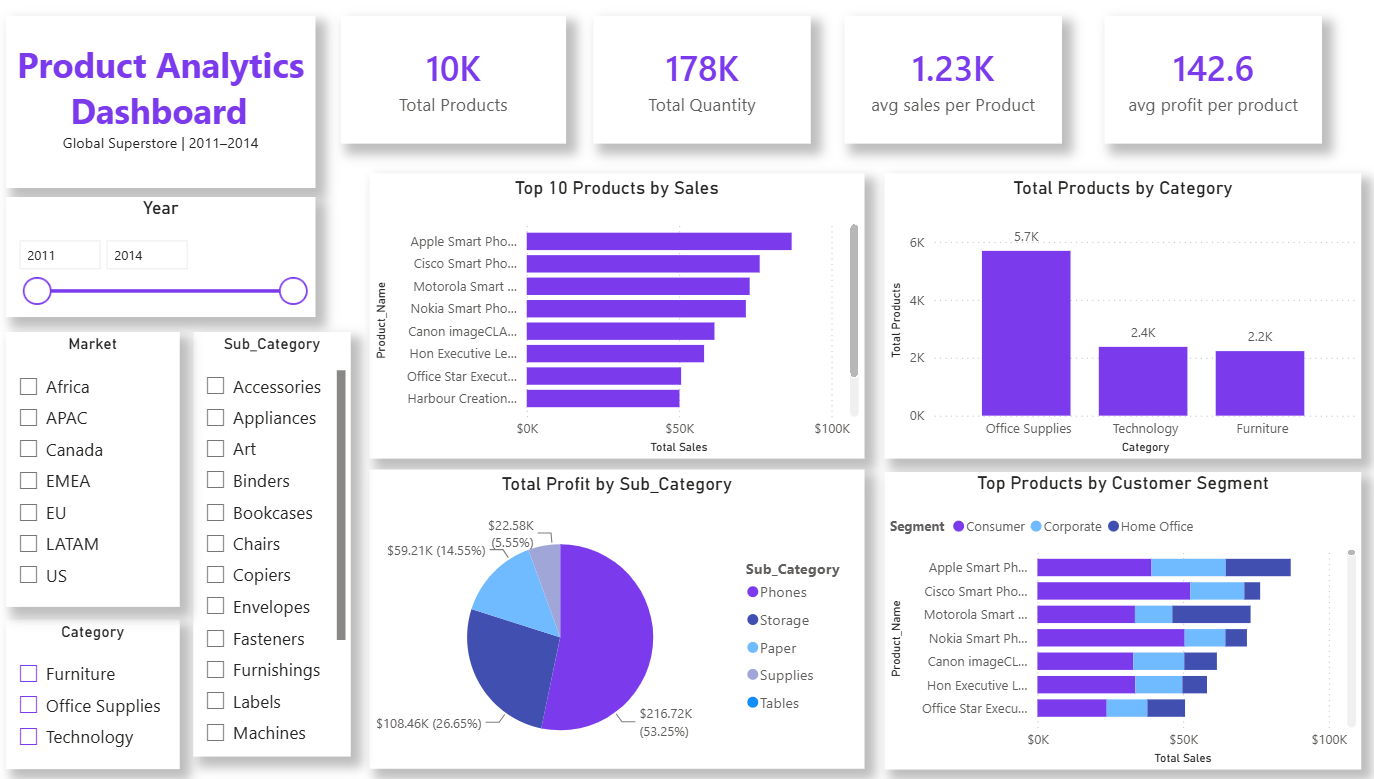

What the dashboard file says about the page in this screenshot:
{"tool":"powerbi","page":{"name":"Page 4","canvas":[1280,720],"ordinal":3},"visuals":[{"type":"cardVisual","fields":{"Data":["Measures (2).Total Products"]},"box":[321.2,17.5,207.5,117.5],"z":0},{"type":"cardVisual","fields":{"Data":["Measures (2).Total Quantity"]},"box":[552.5,17.5,200,117.5],"z":1000},{"type":"cardVisual","fields":{"Data":["Measures (2).avg sales per Product"]},"box":[783.8,17.5,200,117.5],"z":2000},{"type":"cardVisual","fields":{"Data":["Measures (2).avg profit per product"]},"box":[1022.5,17.5,200,117.5],"z":3000},{"type":"textbox","box":[12.5,17.5,285,158.8],"z":4000},{"type":"barChart","title":"Top 10 Products by Sales","fields":{"Y":["Measures (2).Total Sales"],"Category":["superstore1.Product_Name"]},"box":[347.5,162.5,455,262.5],"z":5000},{"type":"columnChart","fields":{"Category":["superstore1.Category"],"Y":["Measures (2).Total Products"]},"box":[821.2,162.5,438.8,262.5],"z":6000},{"type":"barChart","title":"Top Products by Customer Segment","fields":{"Series":["superstore1.Segment"],"Y":["Measures (2).Total Sales"],"Category":["superstore1.Product_Name"]},"box":[821.2,436.2,438.8,273.8],"z":7000},{"type":"pieChart","fields":{"Category":["superstore1.Sub_Category"],"Y":["Measures (2).Total Profit"]},"box":[347.5,435,455,275],"z":8000},{"type":"slicer","title":"Year","fields":{"Values":["Calendar.Year"]},"box":[12.5,183.8,285,110],"z":9000},{"type":"slicer","title":"Category","fields":{"Values":["superstore1.Category"]},"box":[12.5,572.5,160,137.5],"z":10000},{"type":"slicer","title":"Sub_Category","fields":{"Values":["superstore1.Sub_Category"]},"box":[185,307.5,145,390],"z":11000},{"type":"slicer","title":"Market","fields":{"Values":["superstore1.Market"]},"box":[12.5,307.5,160,252.5],"z":12000}]}

Visuals, with their boxes in screenshot pixels (x1, y1, x2, y2), scaled from the page's 1280x720 canvas onto the 1374x779 screenshot:
cardVisual - Measures (2).Total Products: select_region(345, 19, 568, 146)
cardVisual - Measures (2).Total Quantity: select_region(593, 19, 808, 146)
cardVisual - Measures (2).avg sales per Product: select_region(841, 19, 1056, 146)
cardVisual - Measures (2).avg profit per product: select_region(1098, 19, 1312, 146)
textbox: select_region(13, 19, 319, 191)
"Top 10 Products by Sales" barChart: select_region(373, 176, 861, 460)
columnChart - superstore1.Category x Measures (2).Total Products: select_region(882, 176, 1353, 460)
"Top Products by Customer Segment" barChart: select_region(882, 472, 1353, 768)
pieChart - superstore1.Sub_Category x Measures (2).Total Profit: select_region(373, 471, 861, 768)
"Year" slicer: select_region(13, 199, 319, 318)
"Category" slicer: select_region(13, 619, 185, 768)
"Sub_Category" slicer: select_region(199, 333, 354, 755)
"Market" slicer: select_region(13, 333, 185, 606)
